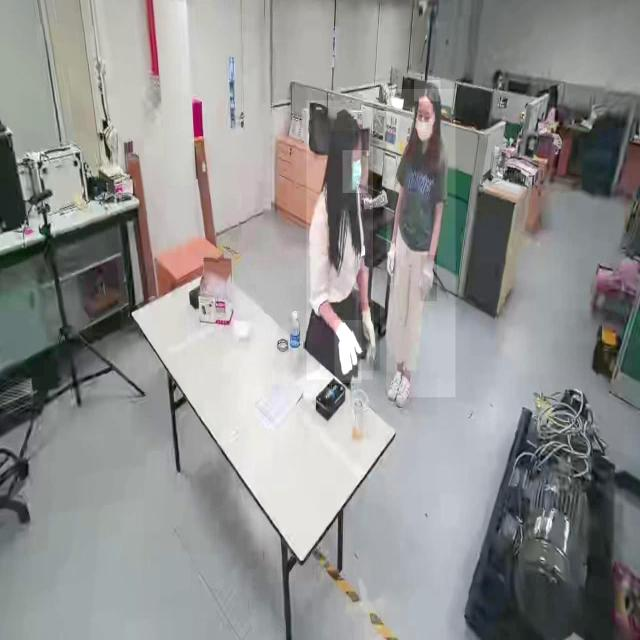face_mask: (342, 150, 368, 193), (412, 107, 436, 150)
hand_glove: (334, 320, 362, 384), (358, 302, 381, 372), (420, 255, 438, 302), (387, 236, 399, 286)
head_nohelmet: (330, 106, 360, 132), (414, 80, 441, 102)
person: (386, 89, 456, 398), (306, 100, 374, 380)
shoes: (393, 372, 413, 410), (386, 365, 405, 400)
